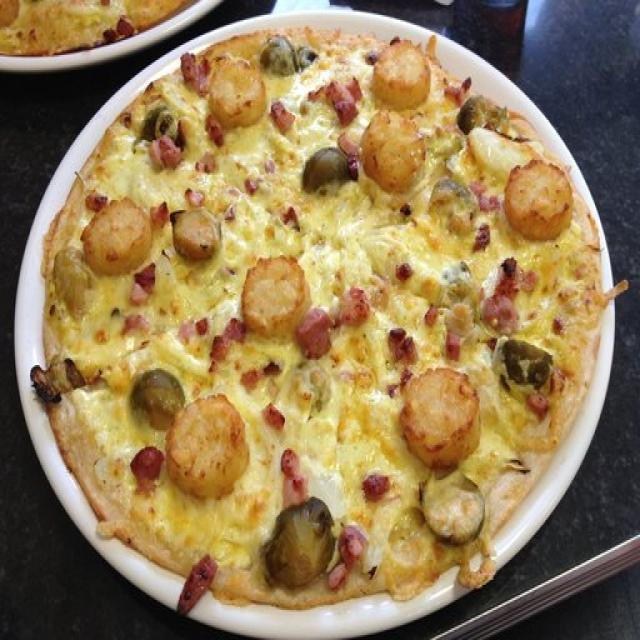Ham: (329, 524, 369, 587), (484, 267, 517, 324), (314, 83, 362, 120), (208, 324, 243, 368), (279, 450, 309, 499), (300, 312, 327, 358), (240, 362, 281, 389), (150, 135, 182, 169), (343, 290, 368, 332), (182, 54, 209, 90), (130, 450, 161, 481), (132, 449, 161, 482), (388, 331, 416, 365), (136, 267, 156, 305), (340, 136, 360, 174), (178, 317, 204, 342), (272, 100, 294, 128), (365, 474, 393, 495), (122, 318, 154, 336), (476, 221, 492, 257), (477, 181, 493, 213), (264, 404, 284, 426), (208, 122, 225, 146), (198, 154, 220, 172), (88, 189, 106, 209), (152, 204, 168, 226), (201, 552, 216, 575), (442, 78, 461, 94), (188, 187, 204, 205), (533, 398, 545, 422), (396, 266, 414, 282), (423, 305, 438, 322), (283, 209, 297, 227), (446, 336, 456, 359)
Pizza: (45, 28, 599, 610), (0, 0, 186, 52)
